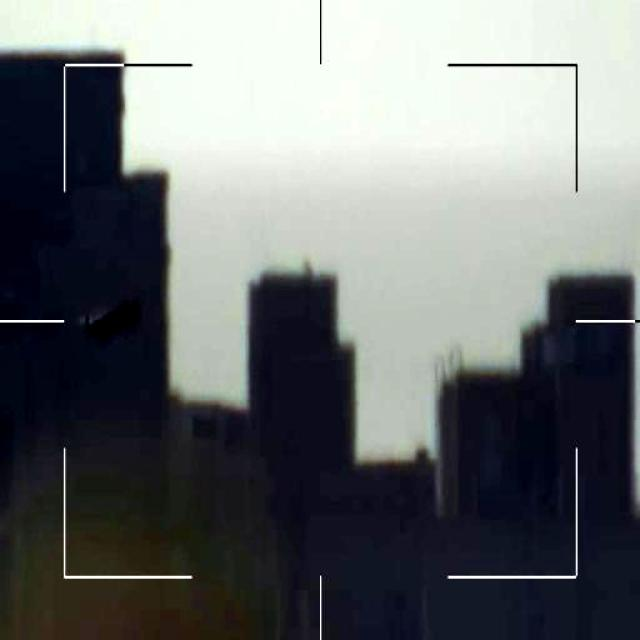bird: (75, 301, 141, 348)
